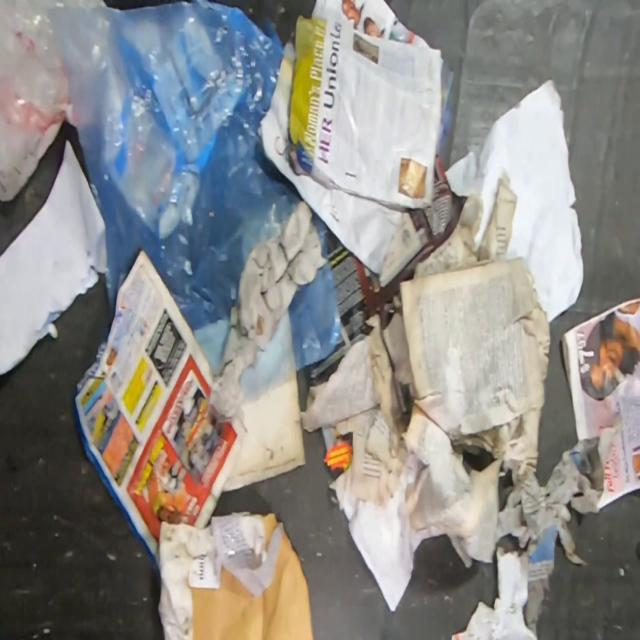cardboard: (185, 527, 314, 640), (262, 512, 280, 550)
soft_plastic: (49, 0, 305, 373), (239, 205, 342, 404), (210, 514, 282, 598)
